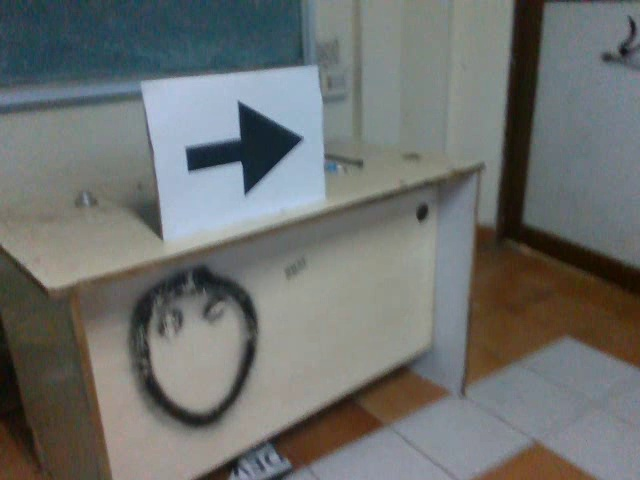Right: (180, 97, 308, 199)
